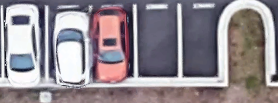Occupied: (1, 4, 47, 81), (91, 4, 136, 81), (47, 4, 91, 80)
Vacant: (135, 4, 180, 81), (179, 4, 221, 81)
